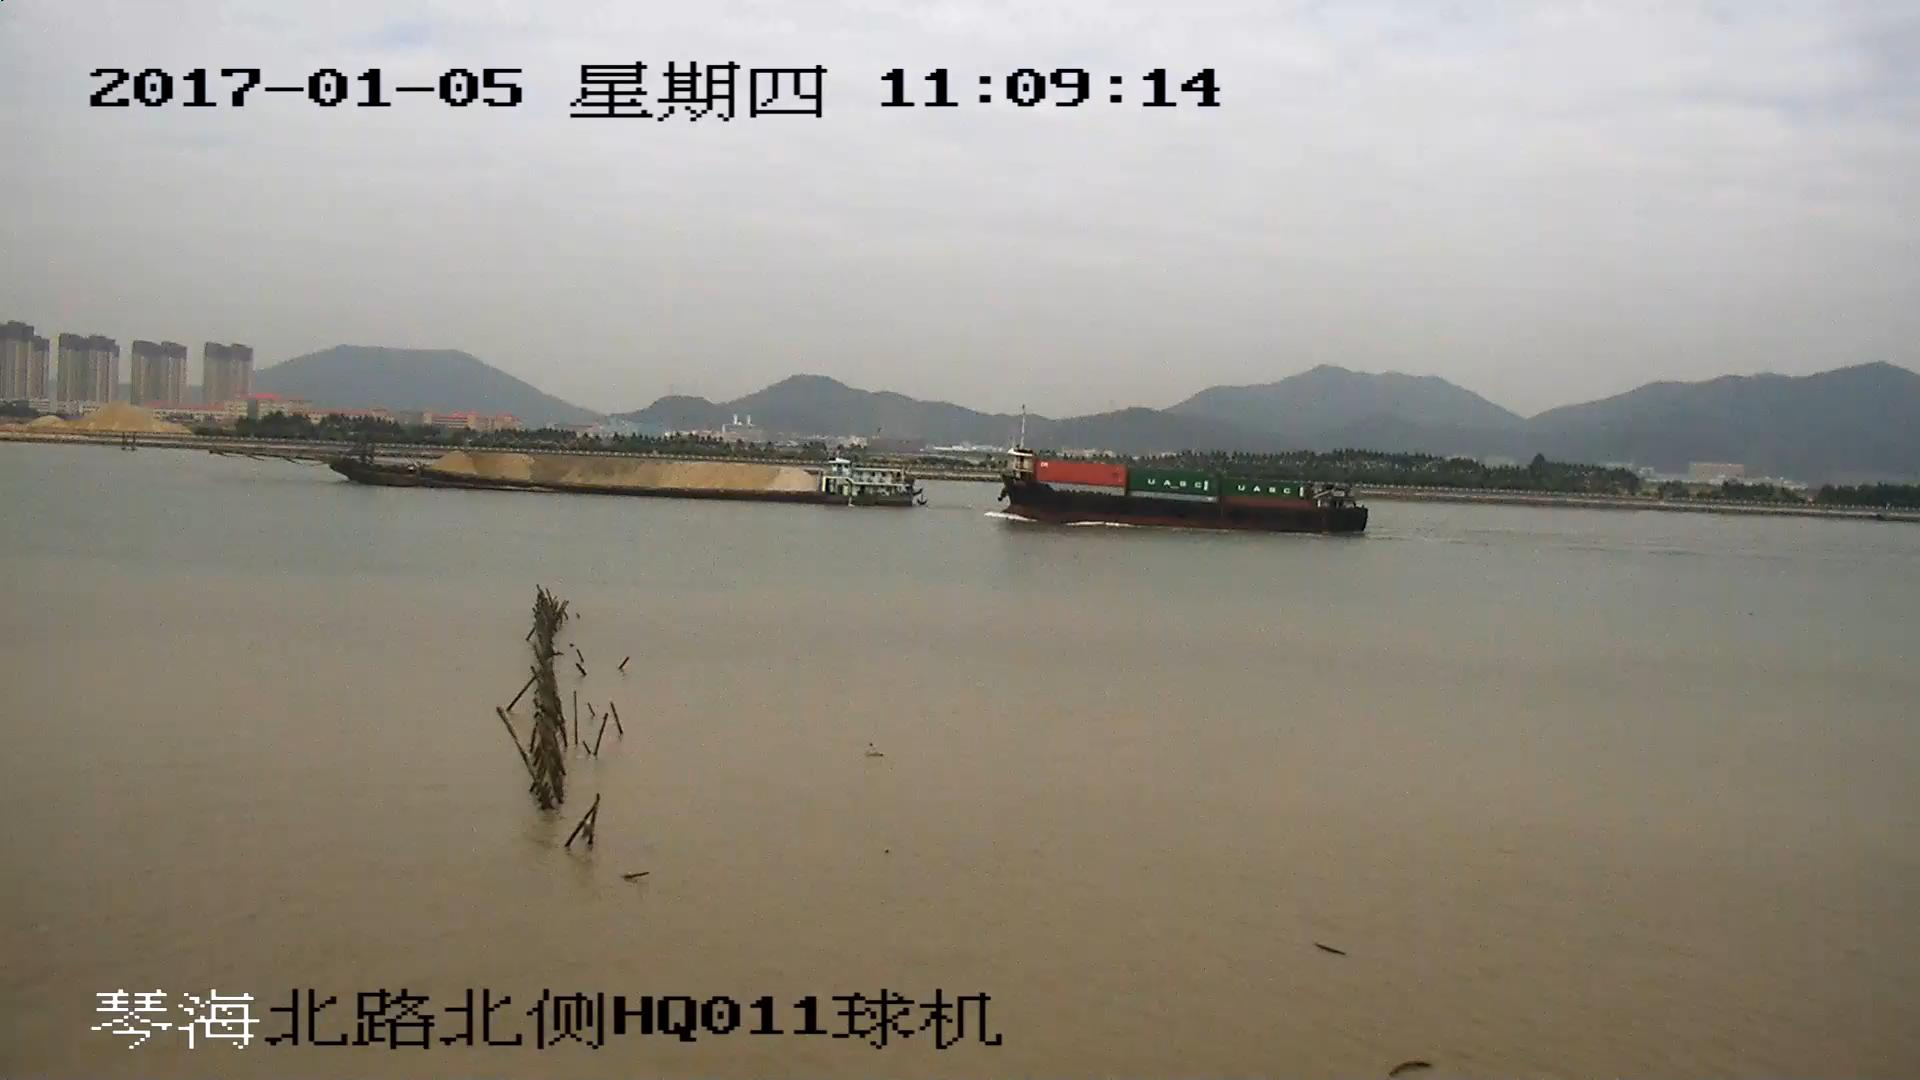container ship: (999, 442, 1367, 532)
ore carrier: (240, 421, 922, 507)
